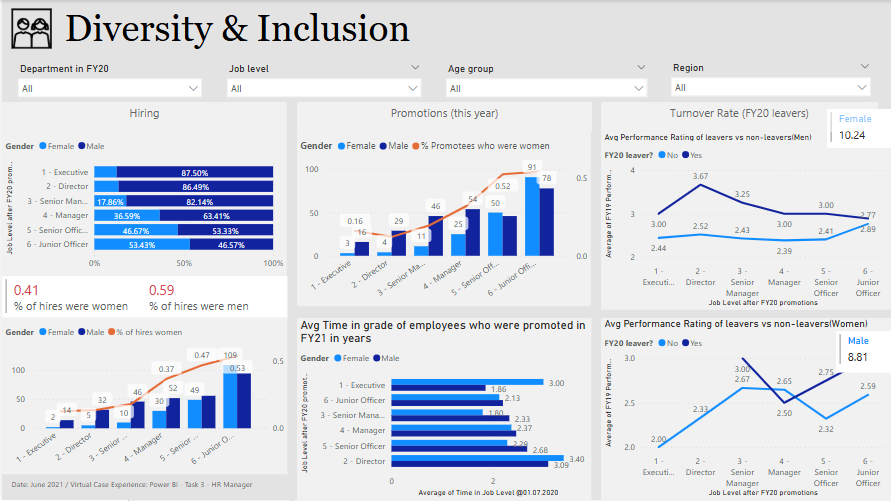

This screenshot's page, from the dashboard's own definition file:
{"tool":"powerbi","page":{"name":"HR Manager Data (1/2)","canvas":[1280,720],"ordinal":0},"visuals":[{"type":"hundredPercentStackedBarChart","fields":{"Category":["Pharma Group AG.Job Level after FY20 promotions"],"Series":["Pharma Group AG.Gender"],"Y":["CountNonNull(Pharma Group AG.Employee ID)"]},"box":[0,190.1,410.4,207.4],"z":0},{"type":"lineClusteredColumnComboChart","fields":{"Category":["Pharma Group AG.Job Level after FY20 promotions"],"Series":["Pharma Group AG.Gender"],"Y":["CountNonNull(Pharma Group AG.Employee ID)"],"Y2":["Pharma Group AG.% of hires women"]},"box":[0,458,411,224.8],"z":1000},{"type":"lineClusteredColumnComboChart","fields":{"Y":["CountNonNull(Pharma Group AG.Employee ID)"],"Y2":["Pharma Group AG.% Promotees who were women"],"Series":["Pharma Group AG.Gender"],"Category":["Pharma Group AG.Job Level after FY21 promotions"]},"box":[424.8,190.1,423.4,250.6],"z":2000},{"type":"clusteredBarChart","title":"Avg Time in grade of employees who were promoted in FY21 in years","fields":{"Category":["Pharma Group AG.Job Level after FY20 promotions"],"Y":["Avg(Pharma Group AG.Time in Job Level @01.07.2020)"],"Series":["Pharma Group AG.Gender"]},"box":[424.4,458,424.4,261.7],"z":3000},{"type":"lineChart","title":"Avg Performance Rating of leavers vs non-leavers(Women)","fields":{"Category":["Pharma Group AG.Job Level after FY20 promotions"],"Y":["Avg(Pharma Group AG.FY19 Performance Rating)"],"Series":["Pharma Group AG.FY20 leaver?"]},"box":[862.6,457.9,417.6,262.1],"z":4000},{"type":"lineChart","title":"Avg Performance Rating of leavers vs non-leavers(Men)","fields":{"Category":["Pharma Group AG.Job Level after FY20 promotions"],"Y":["Avg(Pharma Group AG.FY19 Performance Rating)"],"Series":["Pharma Group AG.FY20 leaver?"]},"box":[862.6,190.1,417.6,256.3],"z":5000},{"type":"slicer","fields":{"Values":["Pharma Group AG.Last Department in FY20"]},"box":[13.4,85.6,285.2,62.1],"z":6000},{"type":"slicer","fields":{"Values":["Pharma Group AG.Job Level after FY20 promotions"]},"box":[313.7,85.6,300.3,62.1],"z":7000},{"type":"slicer","fields":{"Values":["Pharma Group AG.Age group"]},"box":[629.1,85.6,310.4,62.1],"z":8000},{"type":"slicer","fields":{"Values":["Pharma Group AG.Broad region group: nationality 1"]},"box":[953.3,83.5,308.2,63.4],"z":9000},{"type":"textbox","box":[85.6,5,1176,75.5],"z":10000},{"type":"multiRowCard","fields":{"Values":["Pharma Group AG.% of hires women","Pharma Group AG.% of hires men"]},"box":[0,397.6,411,60.4],"z":11000},{"type":"multiRowCard","fields":{"Values":["Pharma Group AG.Gender","Pharma Group AG.Turnover Percentage"]},"box":[1188,157,92.2,56.2],"z":12000},{"type":"multiRowCard","fields":{"Values":["Pharma Group AG.Gender","Pharma Group AG.Turnover Percentage"]},"box":[1201,476.6,79.2,60.5],"z":13000},{"type":"image","box":[8.7,0,67.5,81],"z":14000},{"type":"textbox","box":[8.4,682.8,402.6,36.9],"z":15000},{"type":"textbox","box":[862.6,146.9,398.9,43.2],"z":16000},{"type":"textbox","box":[0,146.9,410.4,43.2],"z":17000},{"type":"textbox","box":[424.8,146.9,424.8,43.2],"z":17001}]}

Visuals, with their boxes in screenshot pixels (x1, y1, x2, y2), scaled from the page's 1280x720 canvas onto the 891x501 screenshot:
hundredPercentStackedBarChart - Pharma Group AG.Job Level after FY20 promotions x Pharma Group AG.Gender: (0, 132, 286, 277)
lineClusteredColumnComboChart - Pharma Group AG.Job Level after FY20 promotions x Pharma Group AG.Gender: (0, 319, 286, 475)
lineClusteredColumnComboChart - CountNonNull(Pharma Group AG.Employee ID) x Pharma Group AG.% Promotees who were women: (296, 132, 590, 307)
"Avg Time in grade of employees who were promoted in FY21 in years" clusteredBarChart: (295, 319, 591, 500)
"Avg Performance Rating of leavers vs non-leavers(Women)" lineChart: (600, 319, 890, 500)
"Avg Performance Rating of leavers vs non-leavers(Men)" lineChart: (600, 132, 890, 311)
slicer - Pharma Group AG.Last Department in FY20: (9, 60, 208, 103)
slicer - Pharma Group AG.Job Level after FY20 promotions: (218, 60, 427, 103)
slicer - Pharma Group AG.Age group: (438, 60, 654, 103)
slicer - Pharma Group AG.Broad region group: nationality 1: (664, 58, 878, 102)
textbox: (60, 3, 878, 56)
multiRowCard - Pharma Group AG.% of hires women x Pharma Group AG.% of hires men: (0, 277, 286, 319)
multiRowCard - Pharma Group AG.Gender x Pharma Group AG.Turnover Percentage: (827, 109, 890, 148)
multiRowCard - Pharma Group AG.Gender x Pharma Group AG.Turnover Percentage: (836, 332, 890, 374)
image: (6, 0, 53, 56)
textbox: (6, 475, 286, 500)
textbox: (600, 102, 878, 132)
textbox: (0, 102, 286, 132)
textbox: (296, 102, 591, 132)
